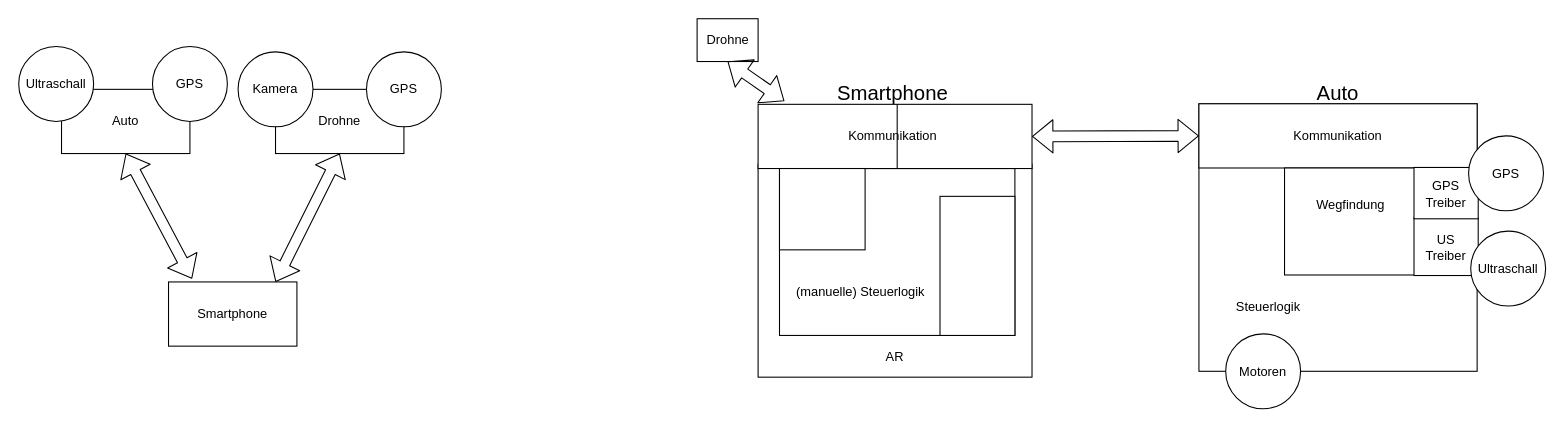
This 1564x428 diagram has some shape labels left out. The shapes that lost their labels are listed below. From the top down, each one's centre as x and y in pixels, then its label:
the point at 821,208: Objekt- erkennunng
the point at 977,265: Sprach- erkennung
